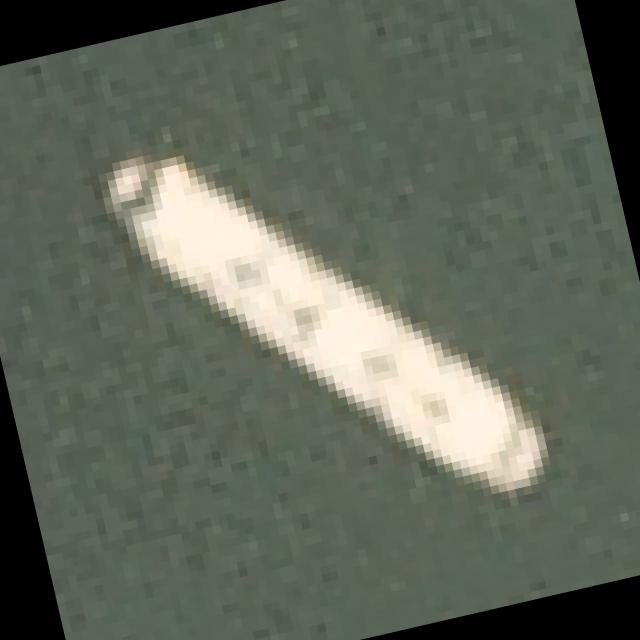ship: (56, 28, 592, 598)
